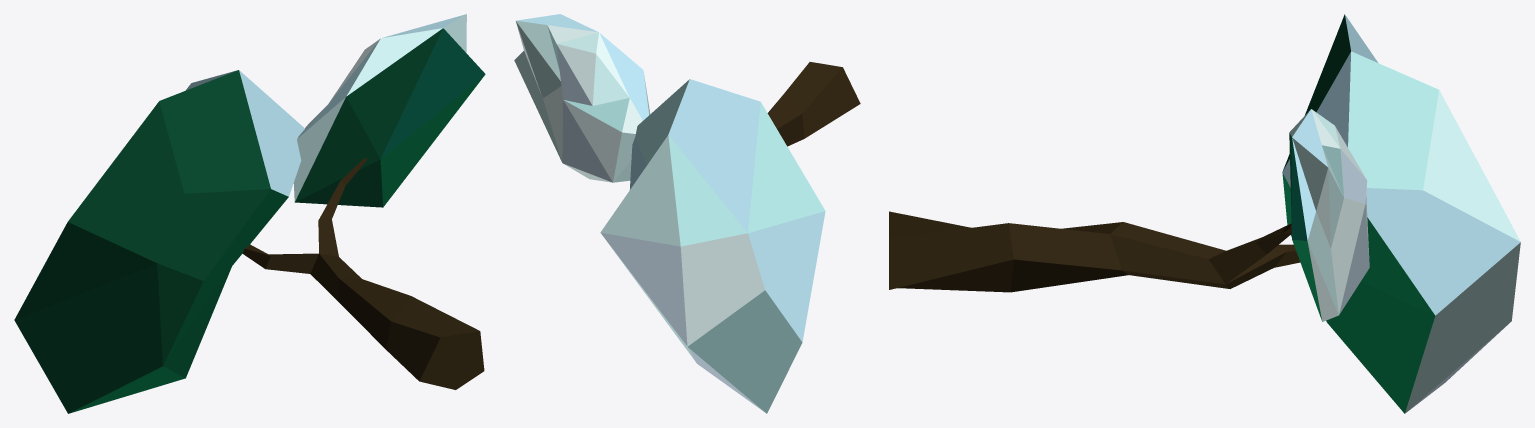
File: winter_tree_10.fbx
3 views of the same model, side by side, from view 1: azimuth 30°, elevation 25°; view 2: azimuth 150°, elevation 25°; view 3: azimuth 270°, elevation 25° (orthographic). The views are drawn at different scales.
Visible parts, largest first — view 1: winter_tree_10; view 2: winter_tree_10; view 3: winter_tree_10.
Boxes of the visible parts, x1,y1,x2,y2 form: winter_tree_10: [14, 14, 485, 413]; winter_tree_10: [514, 14, 860, 413]; winter_tree_10: [889, 14, 1520, 413].
Size of the model in its own units: 151 by 126 by 169.
